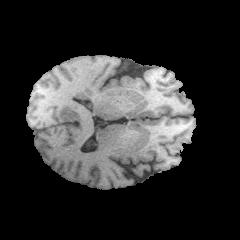glioma: (59, 80, 118, 121)
